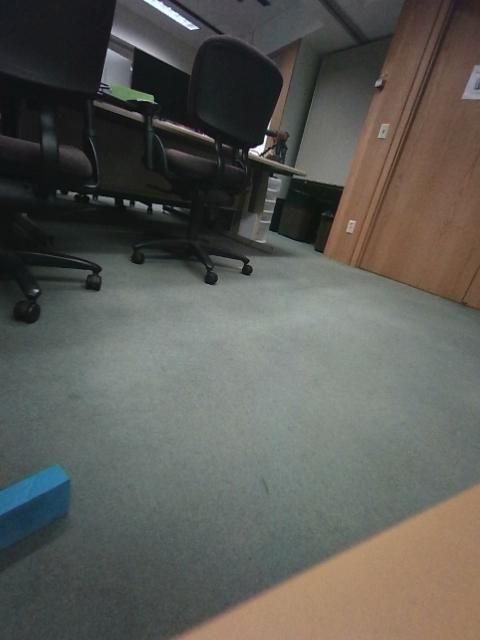block: (436, 319, 465, 347)
